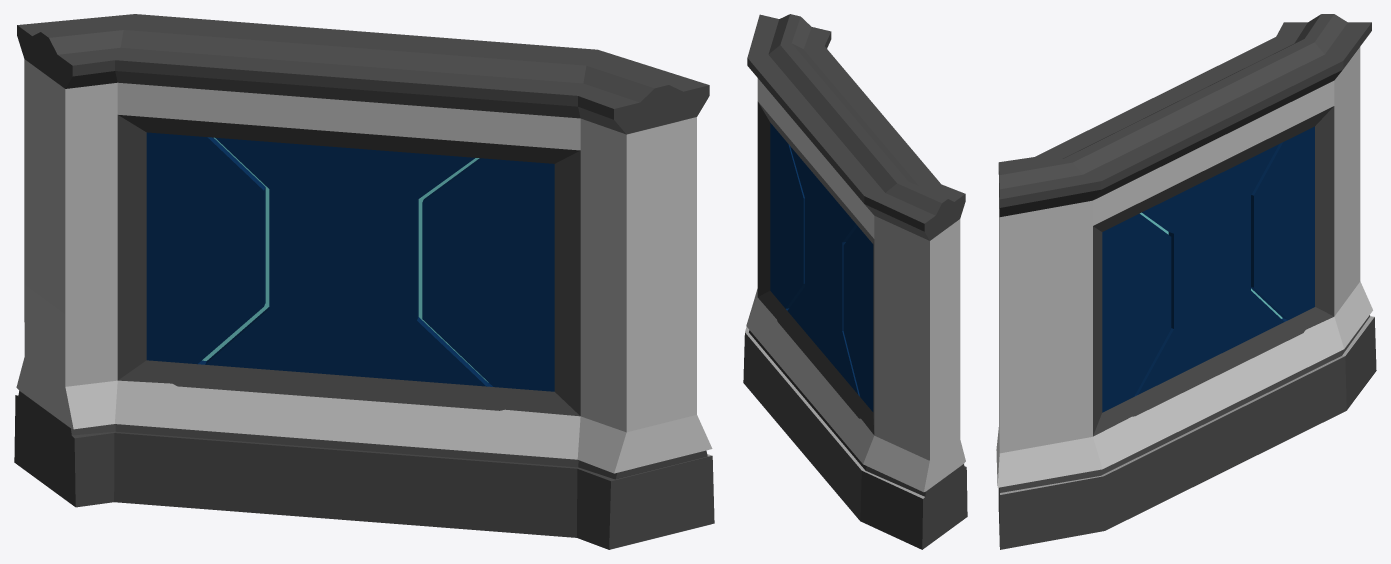
Rendered from Outer_Wall_Corner.fbx.
The picture shows the model from 3 angles, left to right: view 1: azimuth 30°, elevation 25°; view 2: azimuth 150°, elevation 25°; view 3: azimuth 270°, elevation 25°; orthographic projection. The views are drawn at different scales.
Visible parts, largest first — view 1: Outer_Corner_Wall; view 2: Outer_Corner_Wall; view 3: Outer_Corner_Wall.
Part boxes in pixels (x1,y1,x2,y2): Outer_Corner_Wall: (14, 14, 714, 549); Outer_Corner_Wall: (743, 14, 967, 549); Outer_Corner_Wall: (996, 14, 1376, 549).
Size of the model in its own units: 5.51 by 4.94 by 5.12.
